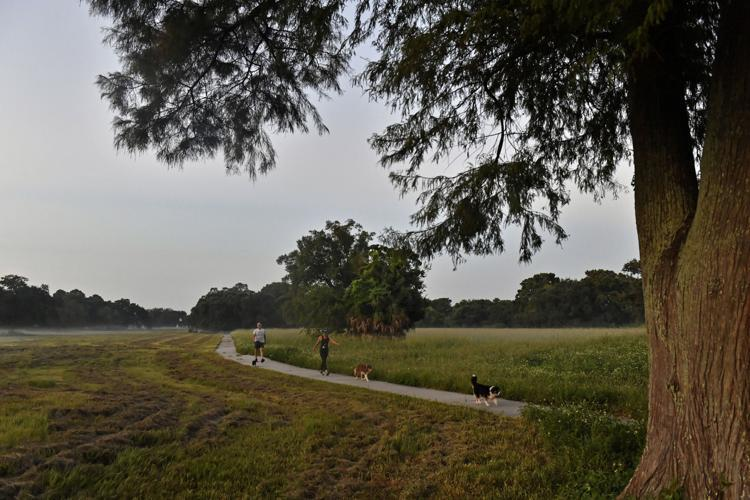overgrown grass: (330, 327, 647, 422), (543, 415, 643, 499), (271, 331, 316, 367), (230, 331, 252, 354)
